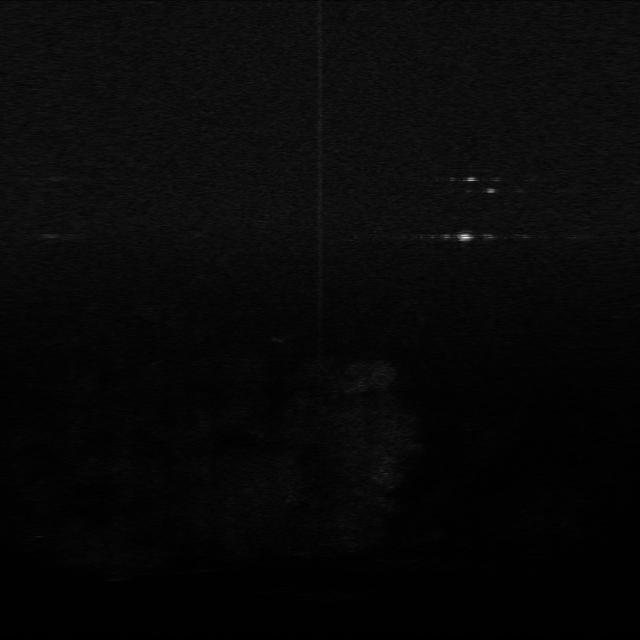rov: (453, 229, 476, 244)
